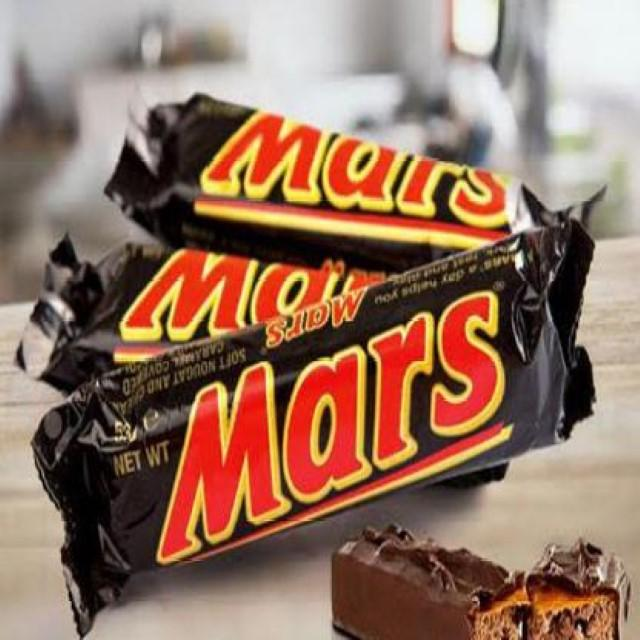mars_chocolate: (60, 237, 583, 603), (137, 90, 543, 227)
